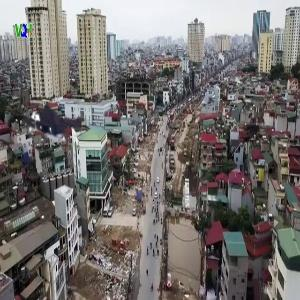drone: (9, 80, 98, 169)
